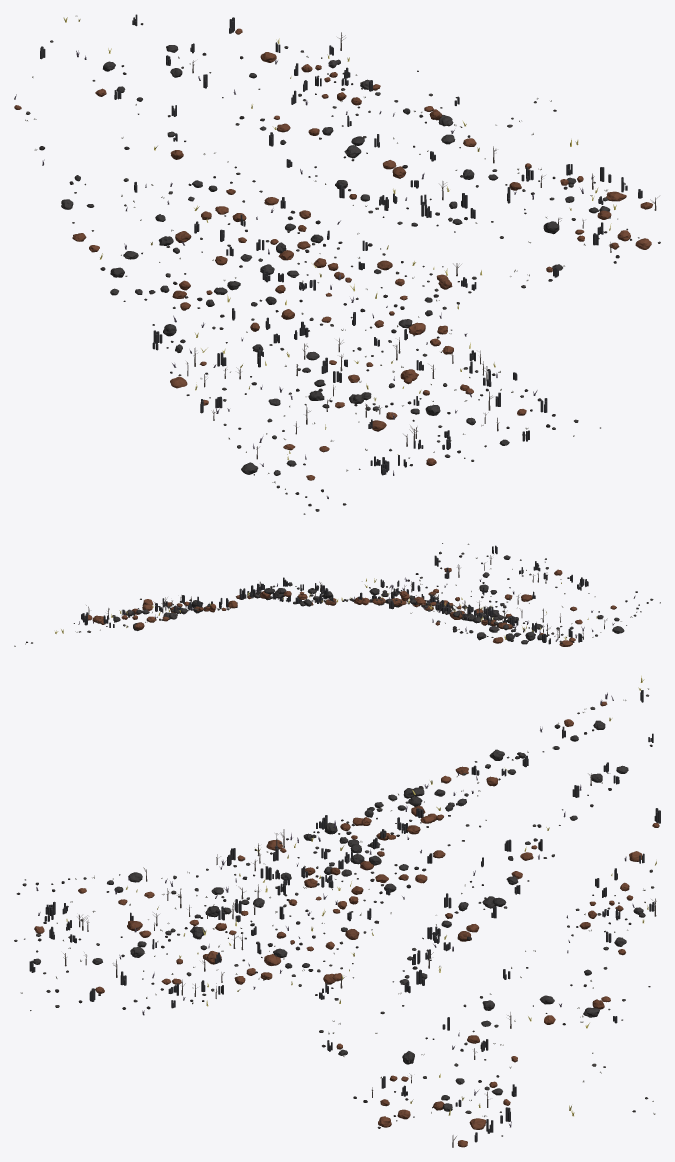
The model's file is ash_land_scatter_c21_29.glb.
The picture shows the model from 3 angles, top to bottom: view 1: azimuth 30°, elevation 25°; view 2: azimuth 150°, elevation 25°; view 3: azimuth 270°, elevation 25°; orthographic projection. The views are drawn at different scales.
Parts seen in each view (by area): view 1: ash_land_scatter_c21_29; view 2: ash_land_scatter_c21_29; view 3: ash_land_scatter_c21_29.
Part boxes in pixels (x1,y1,x2,y2): ash_land_scatter_c21_29: (14,14,660,514); ash_land_scatter_c21_29: (14,543,660,646); ash_land_scatter_c21_29: (14,675,660,1147).
Size of the model in its own units: 260 by 106 by 257.
